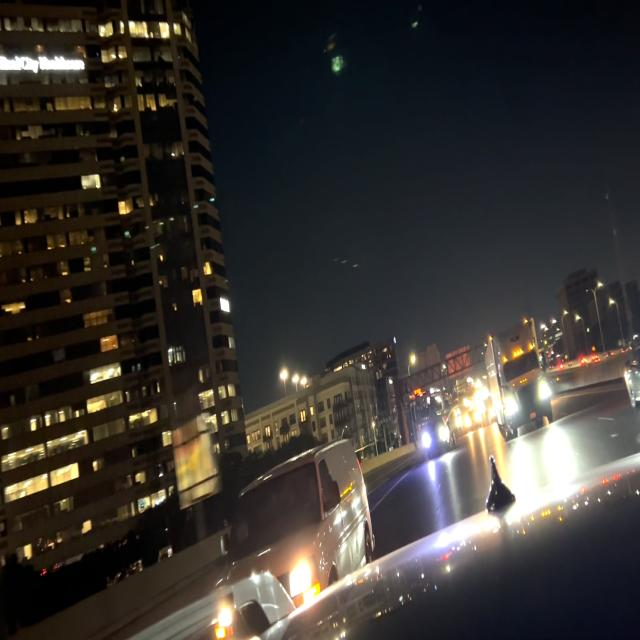back-of-sign: (410, 344, 444, 391), (447, 341, 473, 380)
